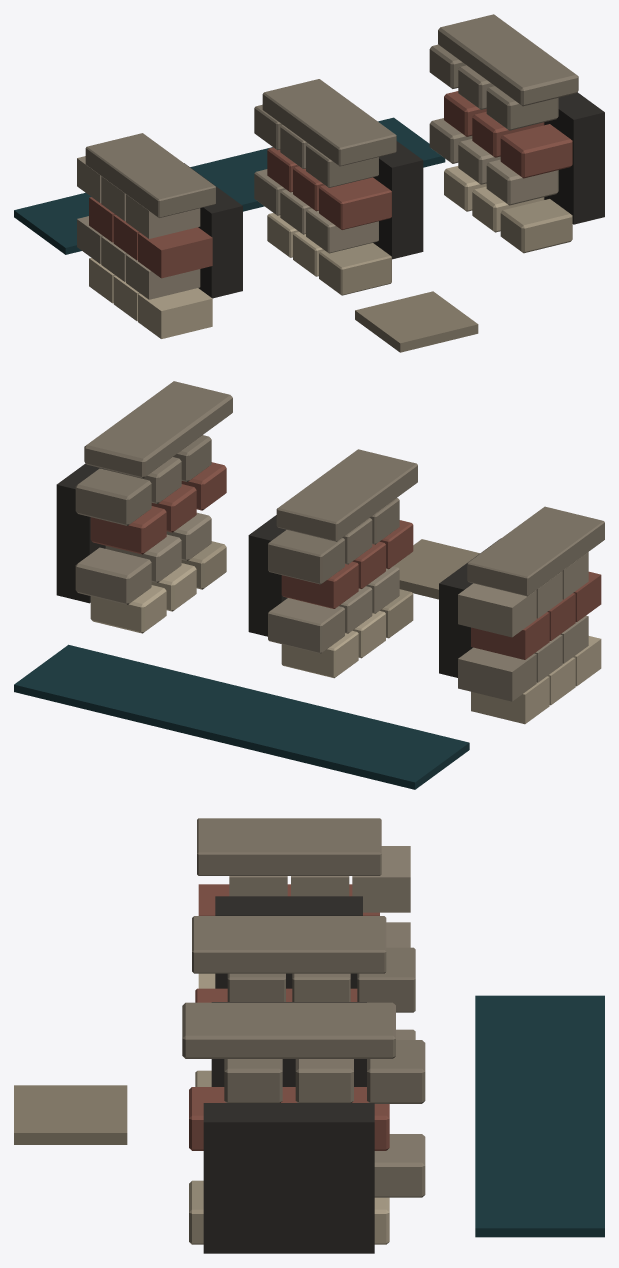
The model's file is masonry_board.glb.
3 renders of one model, top to bottom at view 1: azimuth 30°, elevation 25°; view 2: azimuth 150°, elevation 25°; view 3: azimuth 270°, elevation 25°, orthographic. The views are drawn at different scales.
Visible parts, largest first — view 1: Open_coping, Mid_coping, Tight_coping, Water, Open_recess, FloorSwatch, Mid_recess, Tight_recess, Open_0, Open_6, Mid_0, Mid_6 (+32 smaller); view 2: Water, Open_coping, Mid_coping, Tight_coping, Open_recess, Open_5, Open_11, Mid_5, Tight_5, Tight_11, Mid_11, Mid_recess (+32 smaller); view 3: Water, Open_recess, Open_coping, Mid_coping, Tight_coping, FloorSwatch, Tight_recess, Open_11, Open_5, Tight_11, Mid_11, Open_10 (+12 smaller).
Boxes of the visible parts, bbox=[...] form: Open_coping: bbox=[438, 14, 578, 106]; Mid_coping: bbox=[262, 79, 396, 166]; Tight_coping: bbox=[85, 133, 215, 217]; Water: bbox=[14, 117, 445, 254]; Open_recess: bbox=[544, 92, 604, 224]; FloorSwatch: bbox=[355, 291, 478, 352]; Mid_recess: bbox=[373, 141, 423, 259]; Tight_recess: bbox=[184, 163, 242, 298]; Open_0: bbox=[500, 199, 572, 253]; Open_6: bbox=[500, 124, 572, 178]; Mid_0: bbox=[319, 243, 391, 295]; Mid_6: bbox=[319, 177, 391, 229]; Water: bbox=[14, 644, 469, 789]; Open_coping: bbox=[84, 381, 232, 478]; Mid_coping: bbox=[276, 449, 417, 541]; Tight_coping: bbox=[467, 506, 604, 596]; Open_recess: bbox=[56, 463, 105, 603]; Open_5: bbox=[75, 547, 151, 604]; Open_11: bbox=[75, 468, 151, 525]; Mid_5: bbox=[268, 598, 344, 653]; Tight_5: bbox=[458, 647, 536, 701]; Tight_11: bbox=[458, 583, 536, 637]; Mid_11: bbox=[268, 530, 344, 584]; Mid_recess: bbox=[248, 515, 287, 636]; Water: bbox=[475, 995, 604, 1237]; Open_recess: bbox=[203, 1103, 374, 1253]; Open_coping: bbox=[182, 1002, 395, 1058]; Mid_coping: bbox=[192, 916, 386, 973]; Tight_coping: bbox=[197, 818, 381, 875]; FloorSwatch: bbox=[14, 1085, 127, 1144]; Tight_recess: bbox=[215, 896, 362, 988]; Open_11: bbox=[367, 1040, 425, 1103]; Open_5: bbox=[374, 1134, 425, 1197]; Tight_11: bbox=[352, 846, 410, 912]; Mid_11: bbox=[357, 947, 415, 1012]; Open_10: bbox=[295, 1059, 353, 1102].
Bounding box in the file's own units: 4.02 × 1.44 × 3.65.
